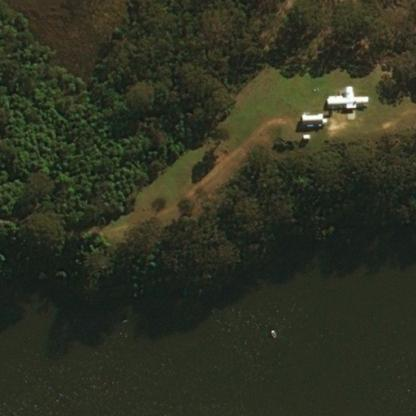ship: (263, 323, 282, 341)
